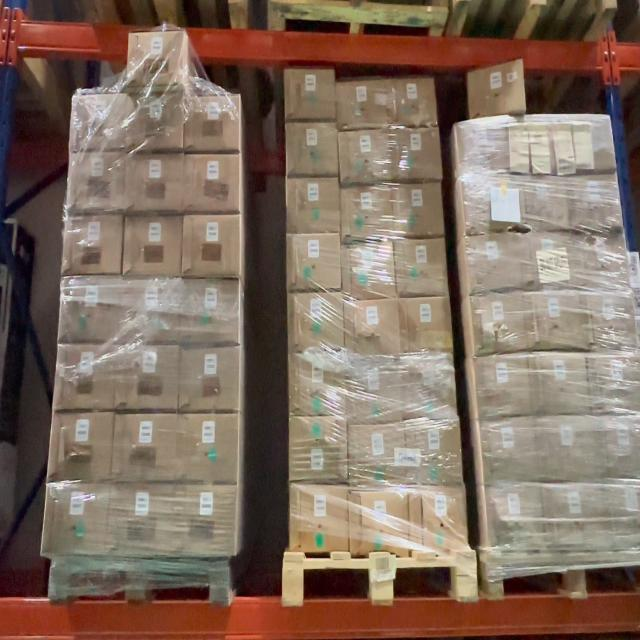box: (45, 486, 108, 554), (113, 486, 175, 554), (176, 486, 235, 555), (292, 486, 349, 552), (350, 492, 411, 552), (180, 416, 237, 479), (548, 486, 604, 550), (182, 348, 239, 410), (184, 280, 240, 343), (291, 418, 347, 481), (54, 414, 110, 476), (62, 280, 118, 340), (120, 347, 176, 407), (118, 418, 174, 478), (488, 487, 542, 549), (64, 215, 121, 273), (124, 279, 178, 340), (130, 32, 187, 89), (185, 217, 241, 275), (409, 422, 462, 483), (58, 347, 111, 408), (128, 217, 182, 276), (411, 489, 465, 548), (291, 354, 344, 414), (538, 421, 591, 480), (477, 357, 529, 417), (70, 152, 125, 208), (352, 426, 404, 485), (483, 422, 533, 482), (185, 96, 240, 150), (187, 156, 241, 211), (130, 155, 183, 211), (349, 360, 399, 419), (529, 294, 582, 349), (464, 178, 520, 230), (535, 354, 584, 413), (291, 293, 342, 349), (75, 96, 127, 150), (133, 96, 183, 151), (290, 235, 339, 291), (401, 297, 450, 353), (588, 292, 636, 349), (591, 355, 638, 413), (288, 178, 339, 231), (475, 296, 524, 351), (406, 359, 453, 416), (470, 238, 520, 291), (343, 132, 393, 183), (347, 302, 396, 354), (288, 121, 337, 172), (461, 124, 510, 174), (474, 66, 523, 116), (394, 184, 441, 236), (600, 419, 640, 479), (399, 242, 445, 294), (572, 178, 618, 230), (528, 233, 572, 287), (287, 69, 335, 118), (345, 189, 392, 239), (346, 246, 392, 296), (564, 120, 610, 170), (394, 130, 438, 181), (580, 240, 626, 288), (523, 178, 567, 227), (514, 122, 556, 172), (342, 82, 388, 127), (608, 486, 640, 550), (393, 79, 434, 125)
